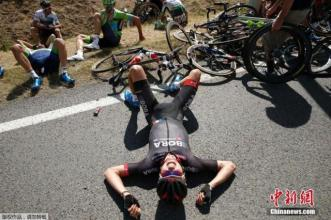fall: (145, 0, 192, 30)
